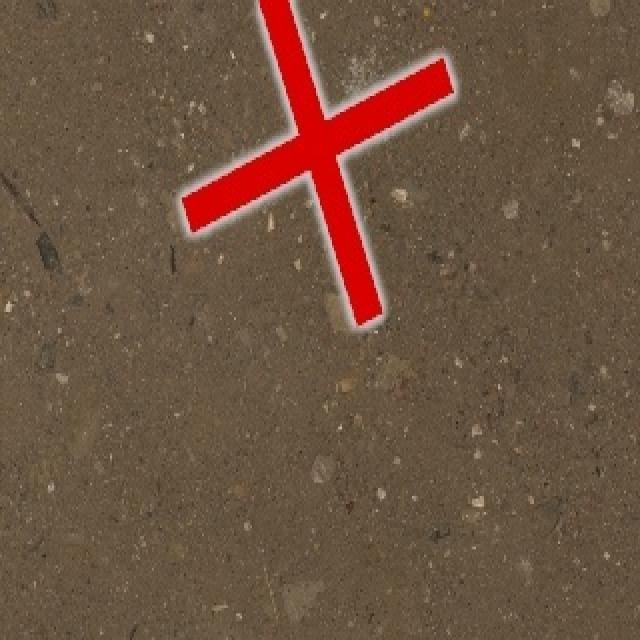x_marker: (181, 0, 453, 323)
